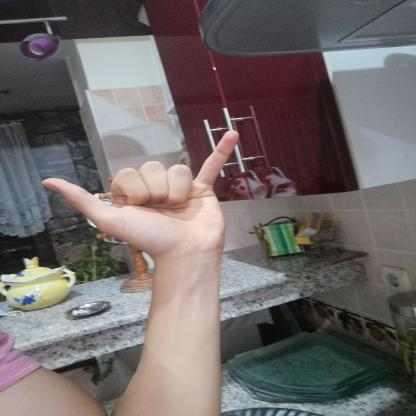YA: (23, 117, 252, 268)
